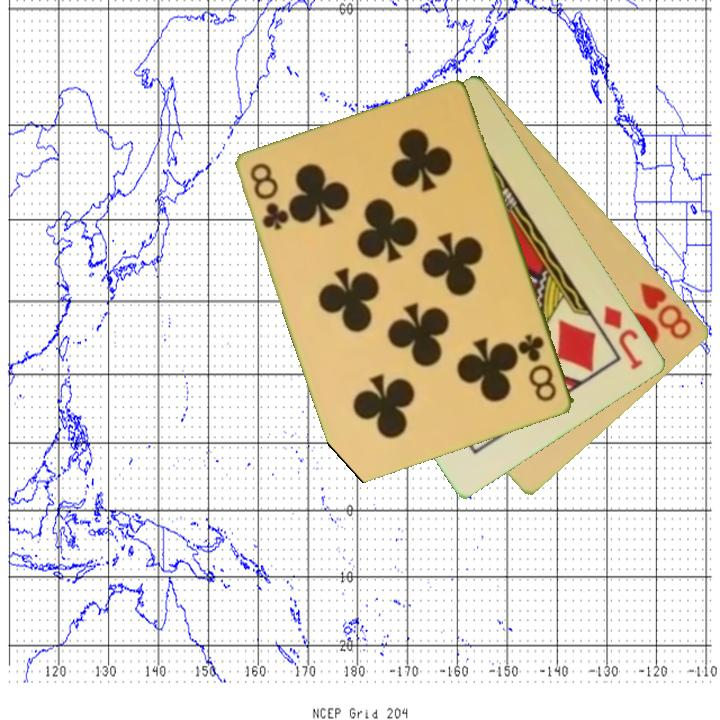8c: (515, 331, 560, 405), (247, 159, 292, 233)
8h: (637, 278, 695, 343)
Jd: (600, 302, 647, 373)
